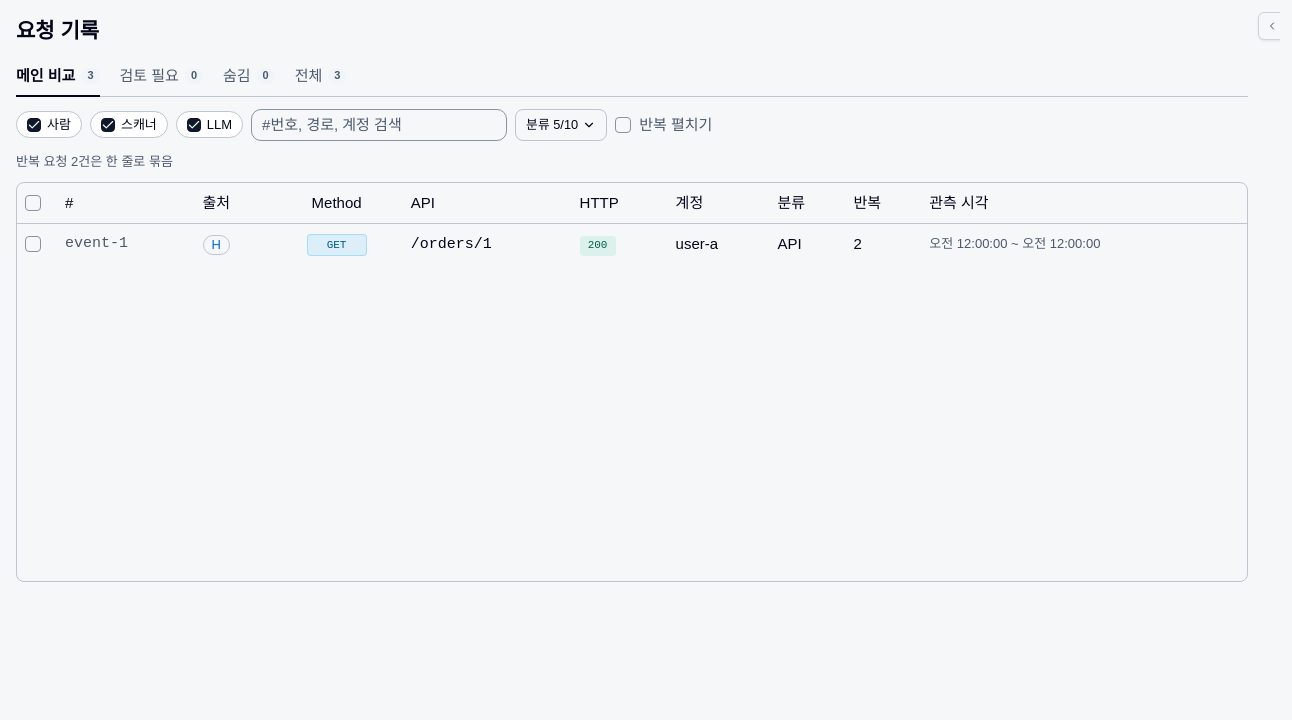
Test case: EvidencePage › selects only filtered repeat members and keeps expanded-row selection exact
The image size is (1292, 720).
Check: the checkbox named "event-1 기록 선택" is shown, box [25, 236, 41, 252]
Click the checkbox named "스캐너" at (108, 125), box [101, 118, 115, 132]
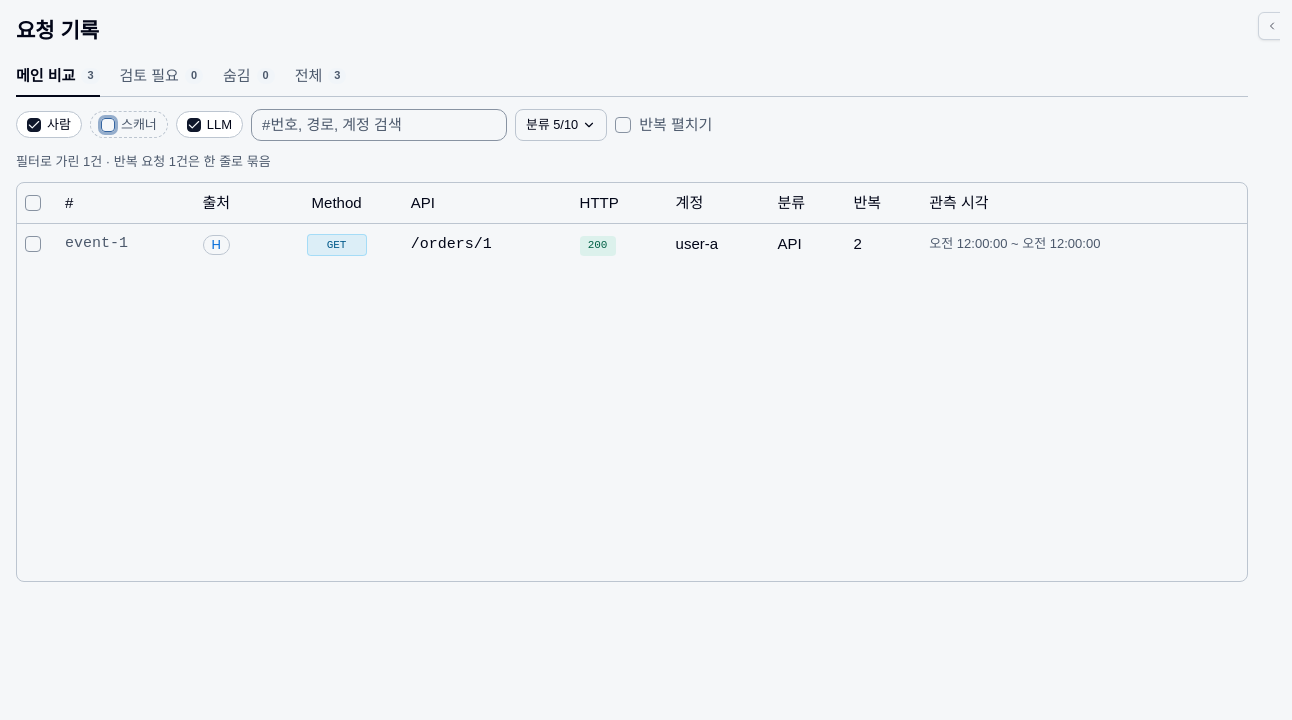
Click the checkbox named "event-1 기록 선택" at (33, 244), box [25, 236, 41, 252]
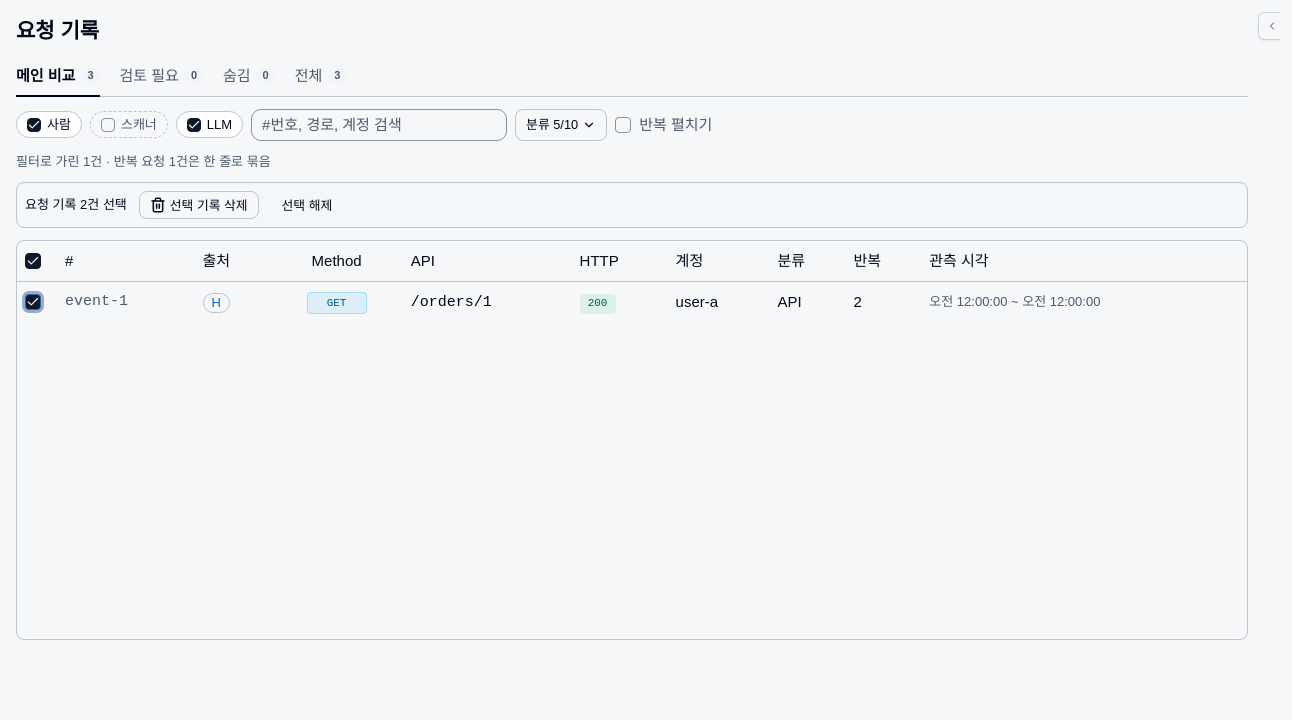
Check: the text "요청 기록 2건 선택" is shown, box [25, 196, 127, 214]
Click the checkbox named "반복 요청 기록 펼치기" at (623, 125), box [615, 117, 631, 133]
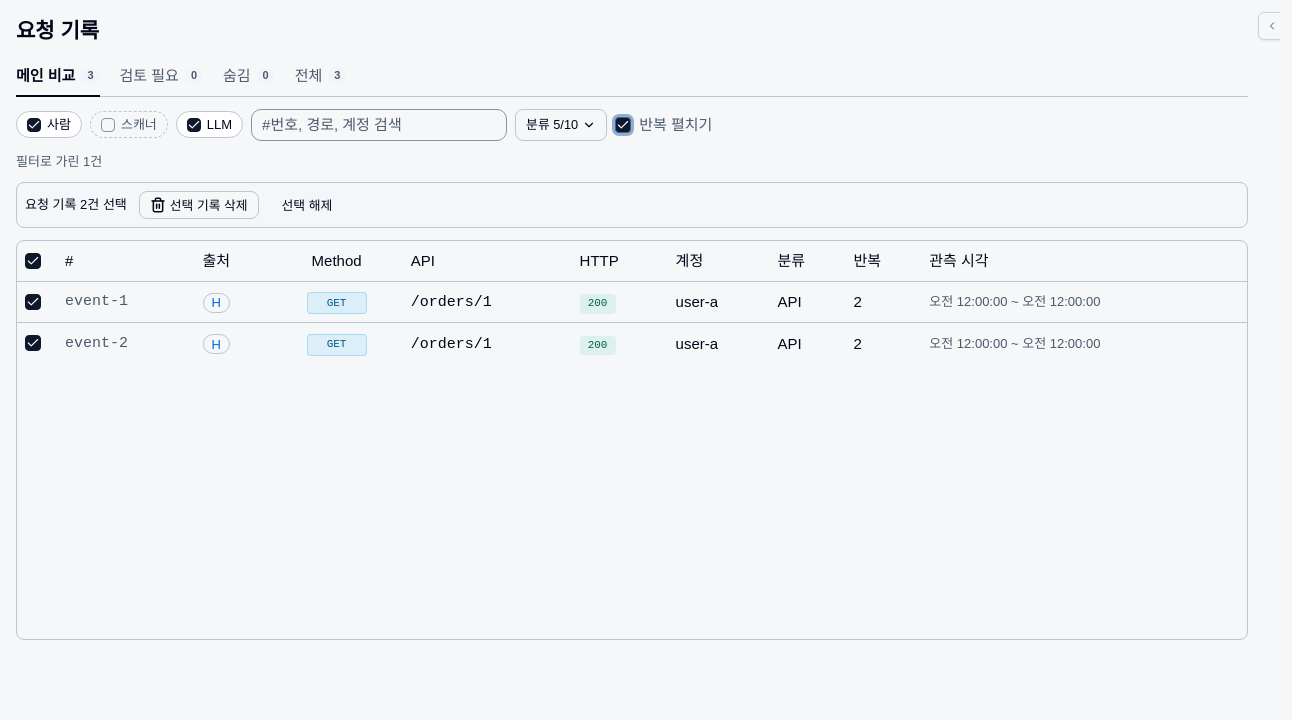
Click the checkbox named "event-1 기록 선택" at (33, 302), box [25, 294, 41, 310]
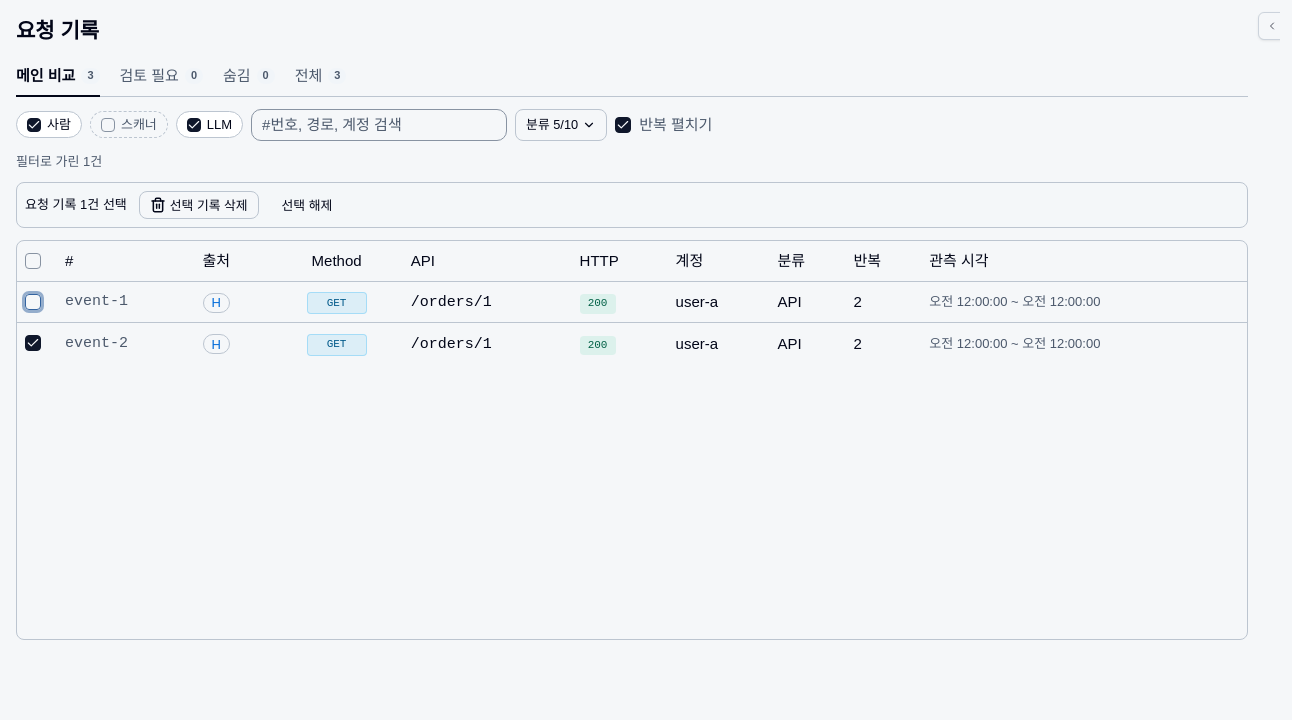
Check: the text "요청 기록 1건 선택" is shown, box [25, 196, 127, 214]
Click the checkbox named "표시된 요청 기록 모두 선택" at (33, 261), box [25, 253, 41, 269]
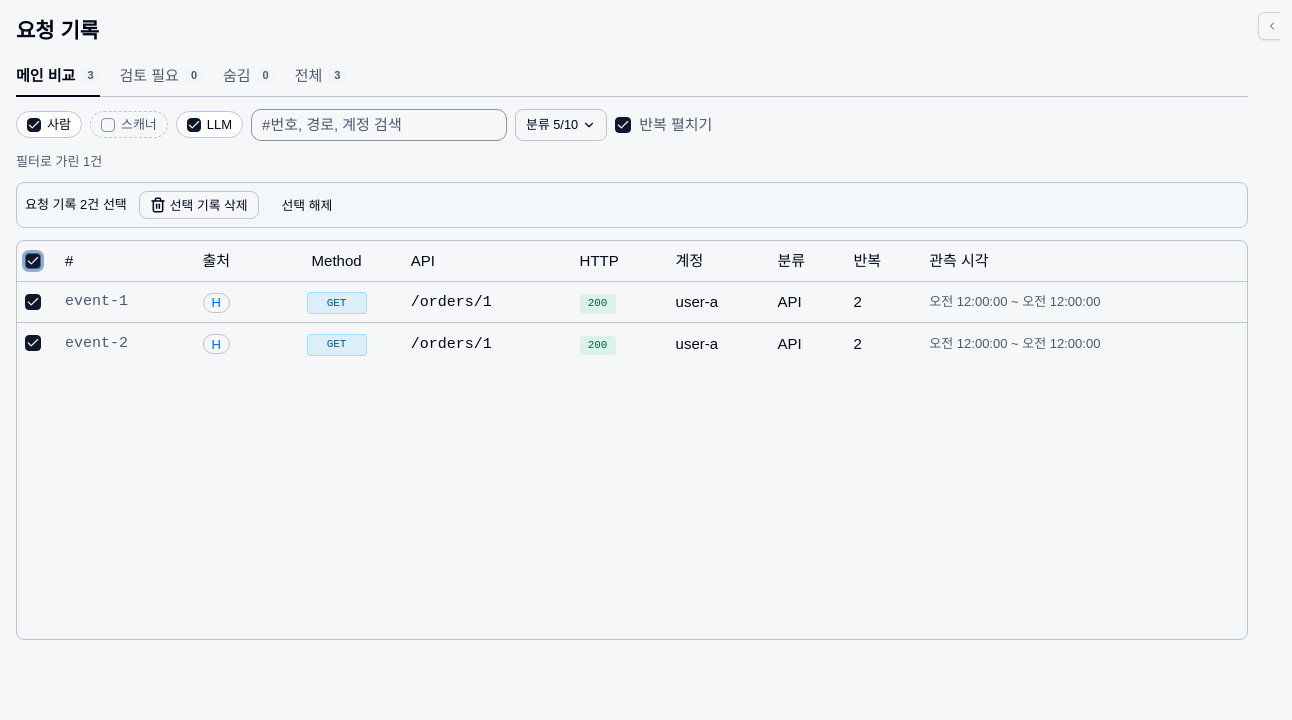
Check: the text "요청 기록 2건 선택" is shown, box [25, 196, 127, 214]
Click the checkbox named "표시된 요청 기록 모두 선택" at (33, 261), box [25, 253, 41, 269]
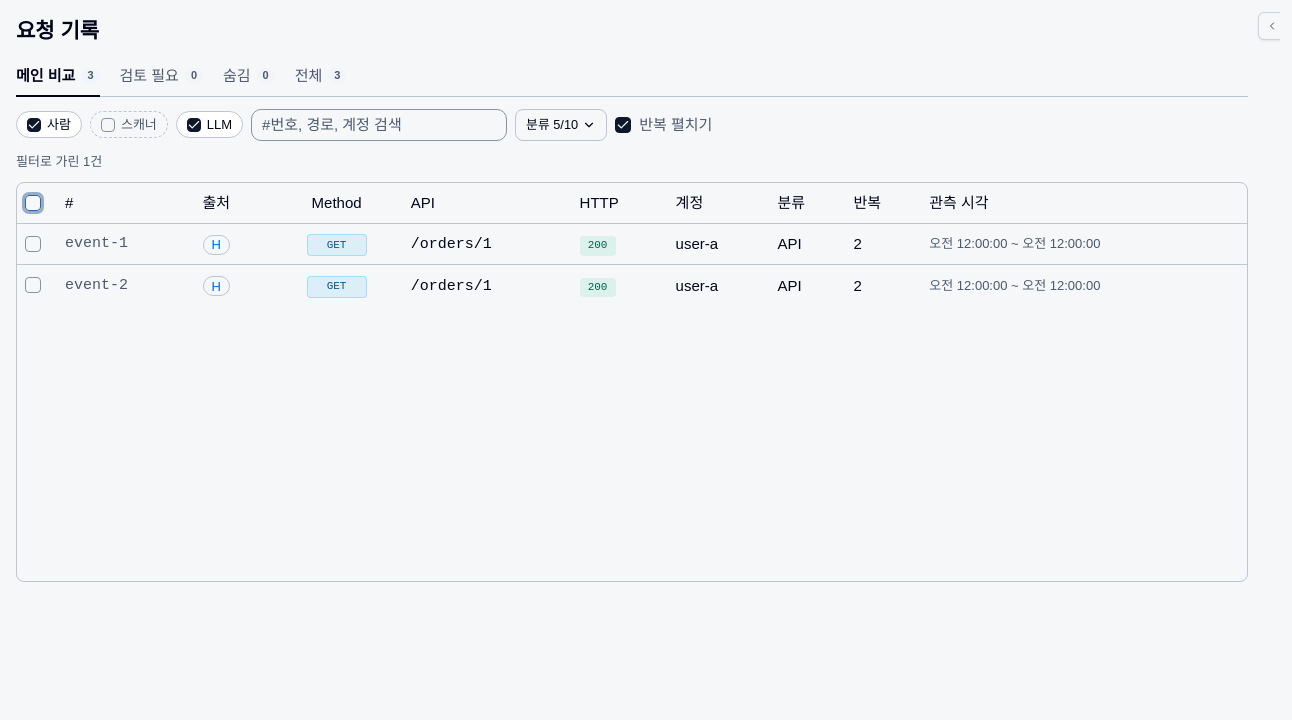
Check: the button "선택 기록 삭제" is gone
